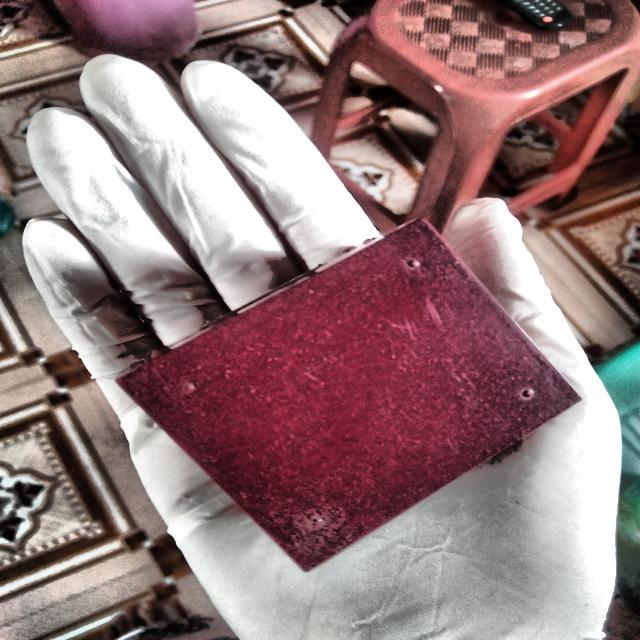gloved: (16, 43, 626, 637)
